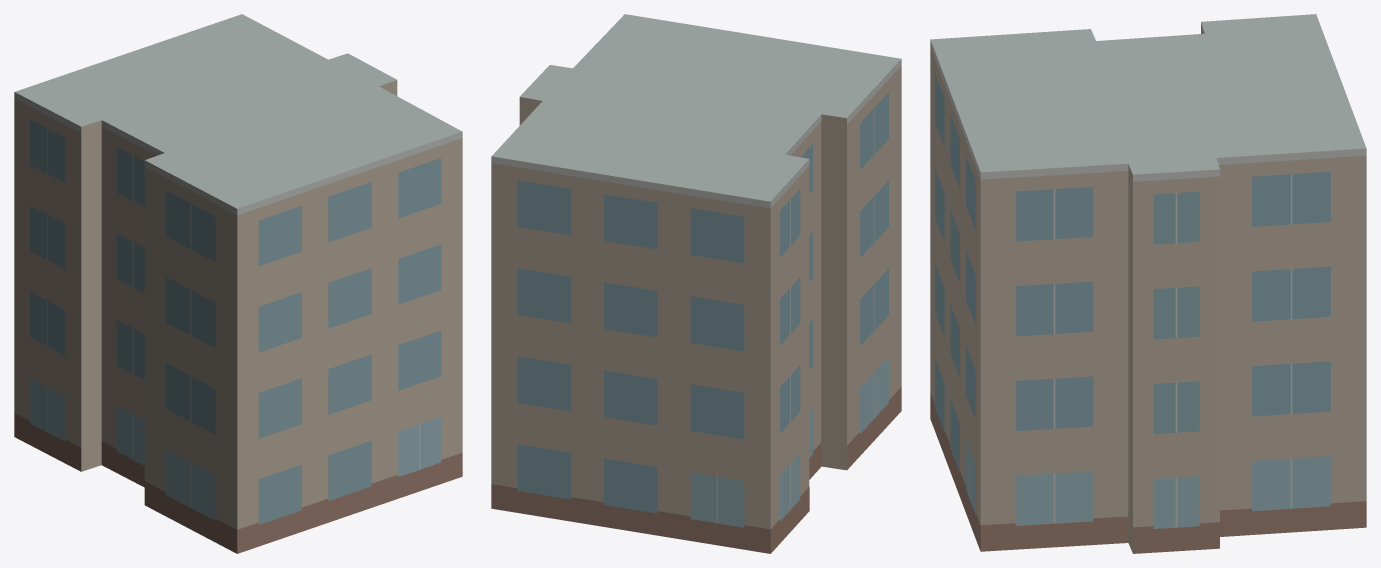
File: survey-upis-32743947.glb
3 views of the same model, side by side, from view 1: azimuth 30°, elevation 25°; view 2: azimuth 150°, elevation 25°; view 3: azimuth 270°, elevation 25° (orthographic). The views are drawn at different scales.
Parts seen in each view (by area): view 1: survey-upis-32743947.tmp; view 2: survey-upis-32743947.tmp; view 3: survey-upis-32743947.tmp.
Part boxes in pixels (x1,y1,x2,y2): survey-upis-32743947.tmp: (14, 14, 462, 553); survey-upis-32743947.tmp: (491, 14, 901, 553); survey-upis-32743947.tmp: (930, 14, 1366, 553).
Size of the model in its own units: 11.74 by 12.9 by 13.46.
